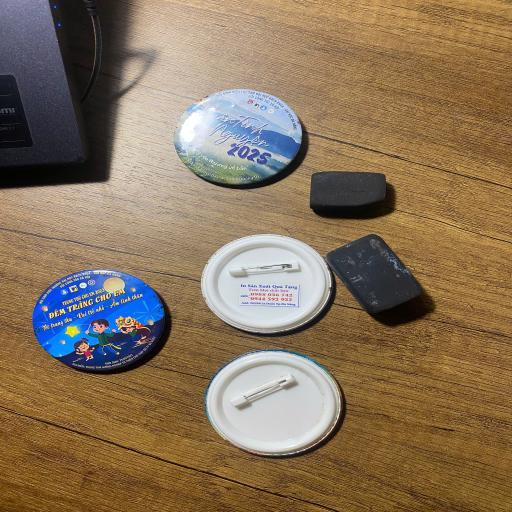HH: (202, 347, 346, 457), (30, 268, 170, 374), (169, 88, 305, 190), (202, 235, 334, 338)
T: (326, 235, 426, 317), (308, 170, 389, 216)
